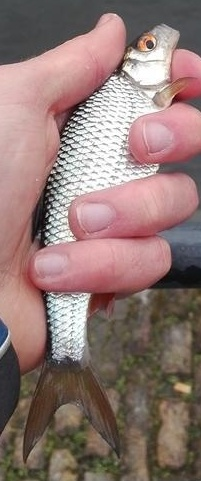Rutilus rutilus: (20, 20, 181, 461)
